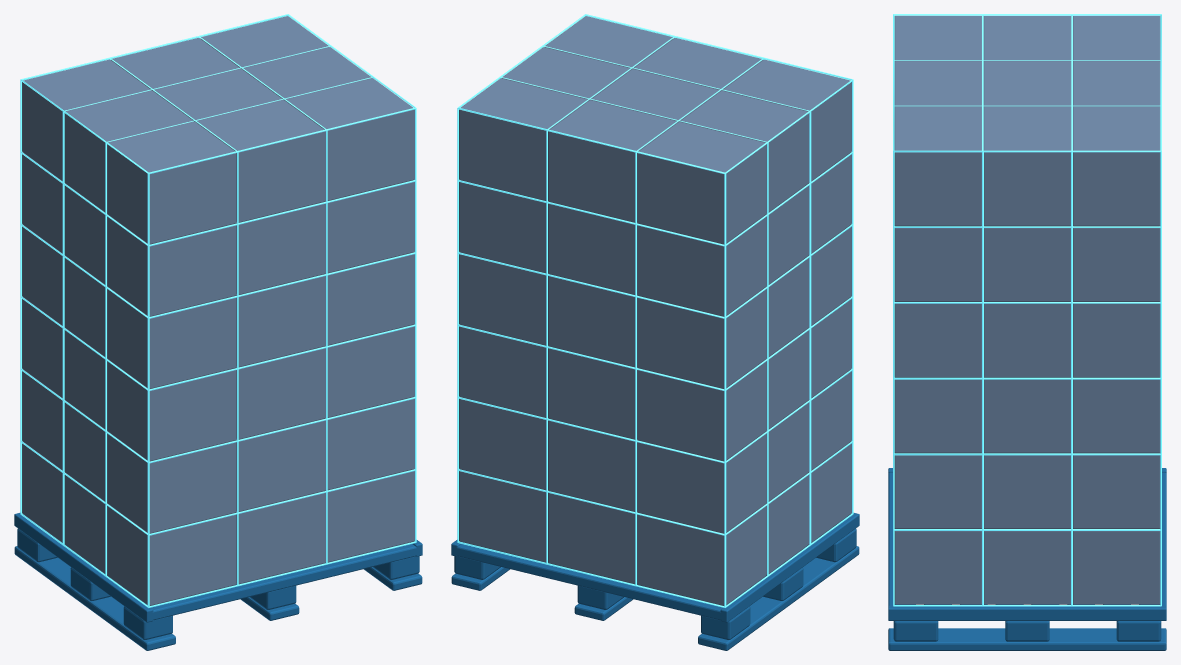
File: SM_GHS_Presentation_CargoMid.fbx
3 views of the same model, side by side, from view 1: azimuth 30°, elevation 25°; view 2: azimuth 150°, elevation 25°; view 3: azimuth 270°, elevation 25° (orthographic). The views are drawn at different scales.
Visible parts, largest first — view 1: SM_GHS_Presentation_CargoMid; view 2: SM_GHS_Presentation_CargoMid; view 3: SM_GHS_Presentation_CargoMid.
Boxes of the visible parts, x1,y1,x2,y2 form: SM_GHS_Presentation_CargoMid: [14, 14, 422, 650]; SM_GHS_Presentation_CargoMid: [451, 14, 859, 650]; SM_GHS_Presentation_CargoMid: [888, 14, 1166, 650].
Size of the model in its own units: 120 by 100 by 198.
